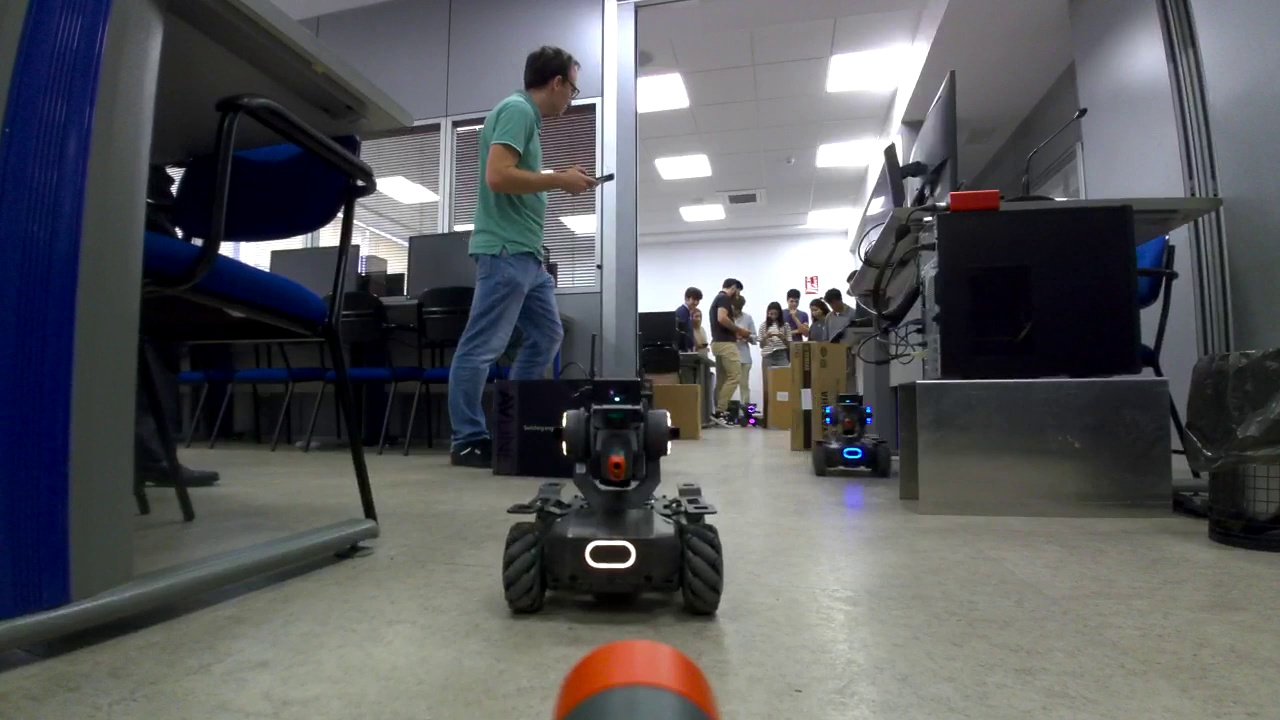robot: (510, 408, 722, 626), (813, 398, 887, 478), (738, 406, 761, 424)
